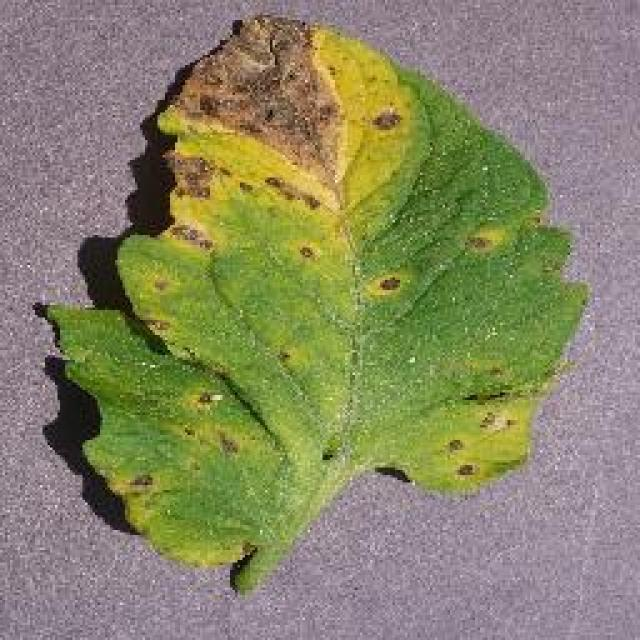Tomato target spot leaf: (46, 13, 592, 565)
